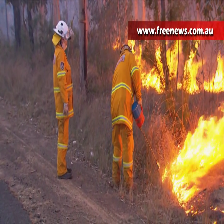fire_h: (161, 99, 224, 214), (128, 35, 183, 95), (178, 41, 208, 92), (203, 52, 224, 91)
fire_l: (185, 205, 198, 214), (112, 38, 120, 49), (210, 204, 218, 211), (218, 102, 224, 111), (212, 219, 217, 224)
